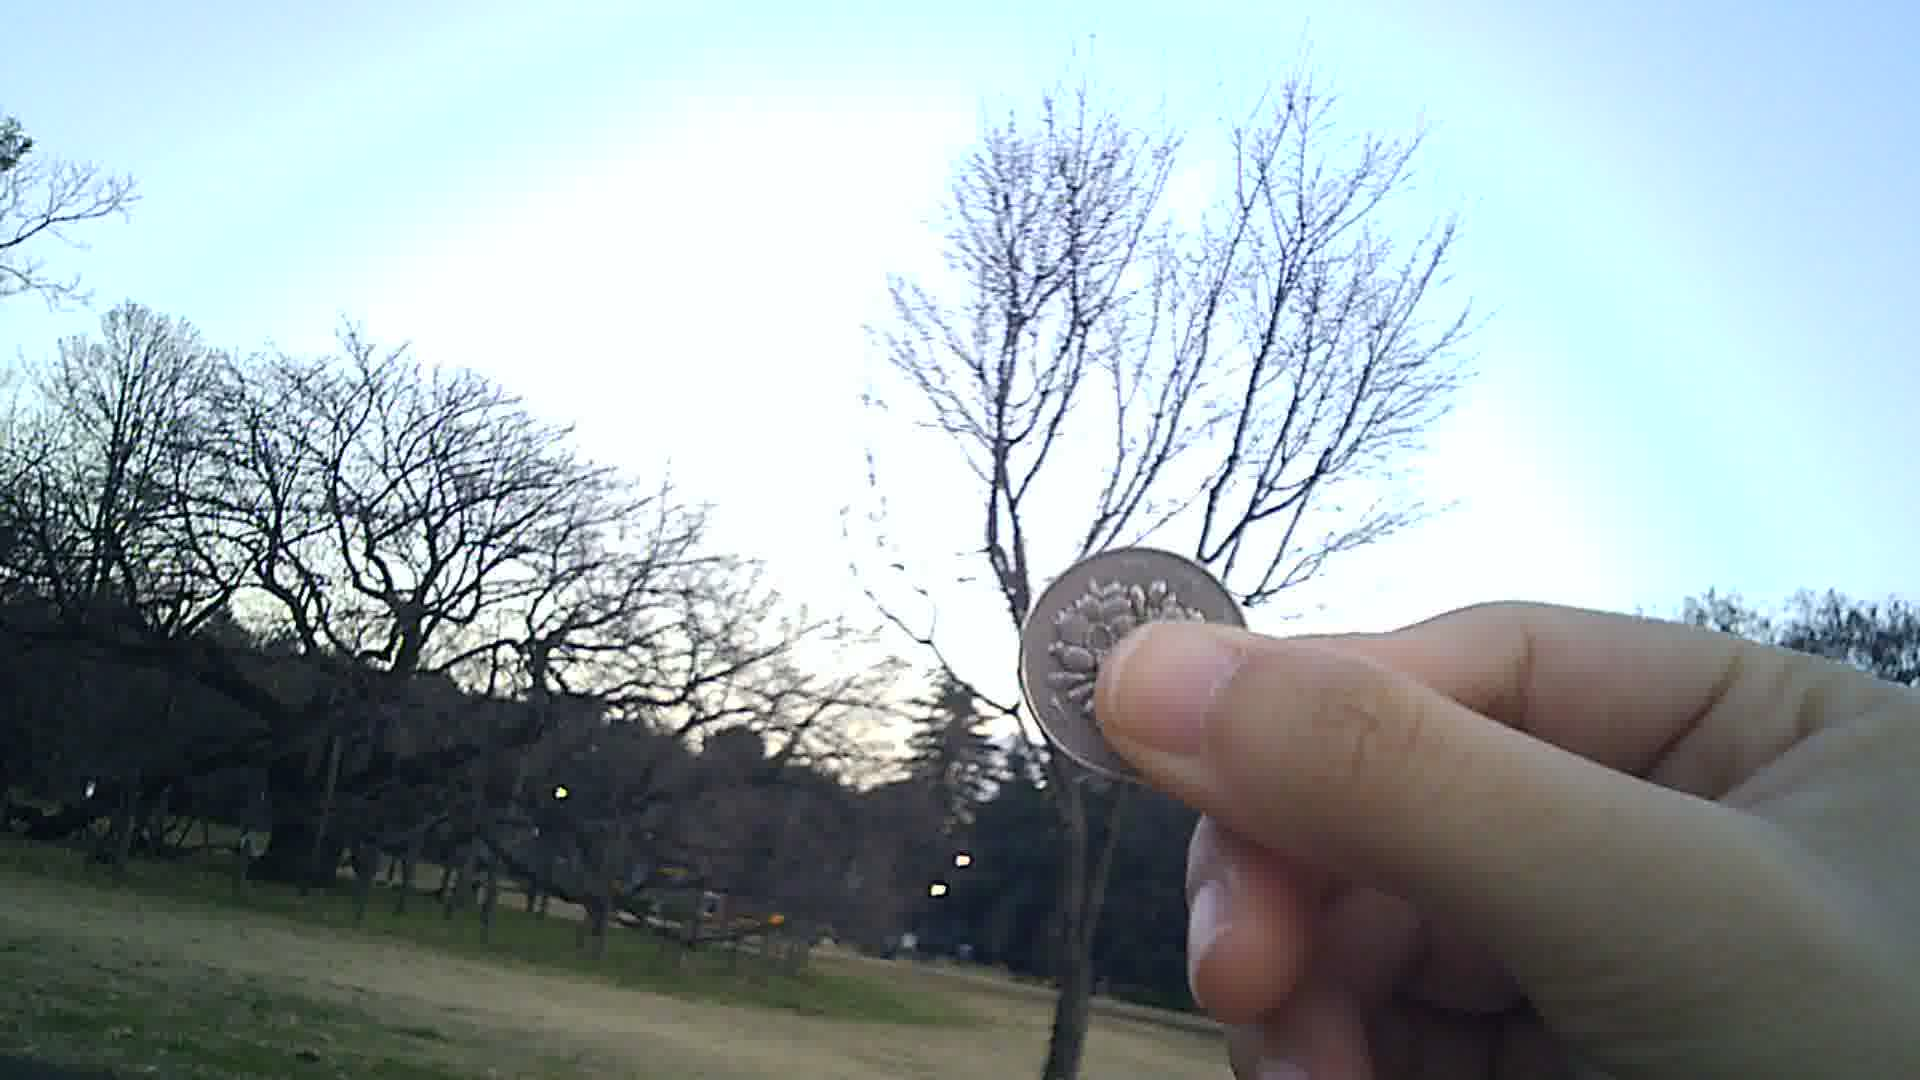100 Yen: (1021, 550, 1251, 790)
